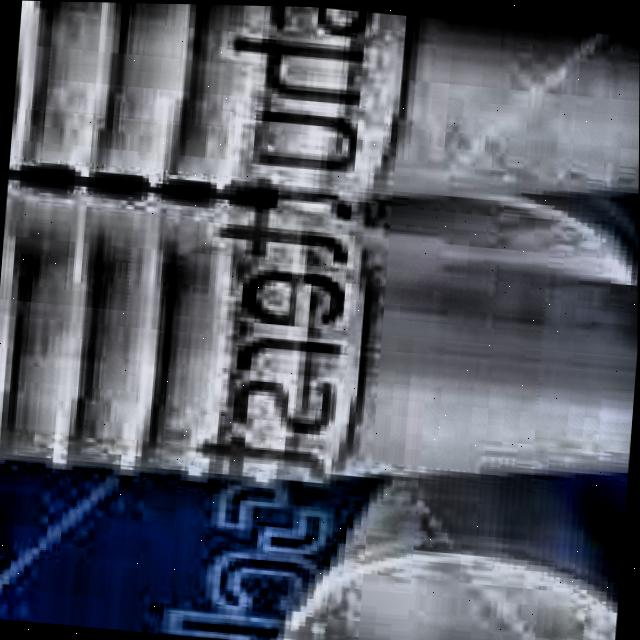paper: (0, 168, 639, 507), (9, 0, 640, 213), (268, 203, 639, 501), (287, 5, 640, 281), (279, 5, 640, 209), (269, 449, 627, 640)
